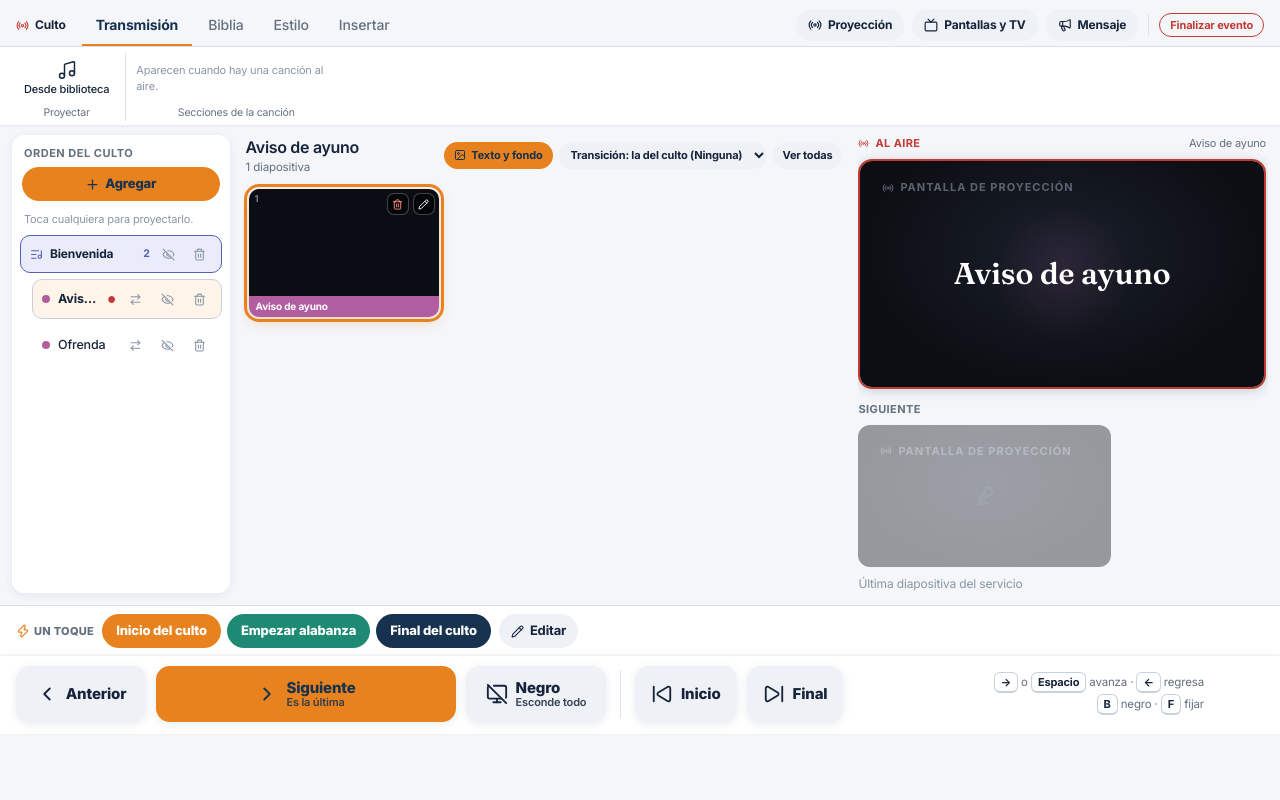
Consola: borrar del setlist y agregar versículo › + Agregar → Versículo abre el buscador de la Biblia
Click the button "Agregar" at point(121, 184), box [22,167,220,201]
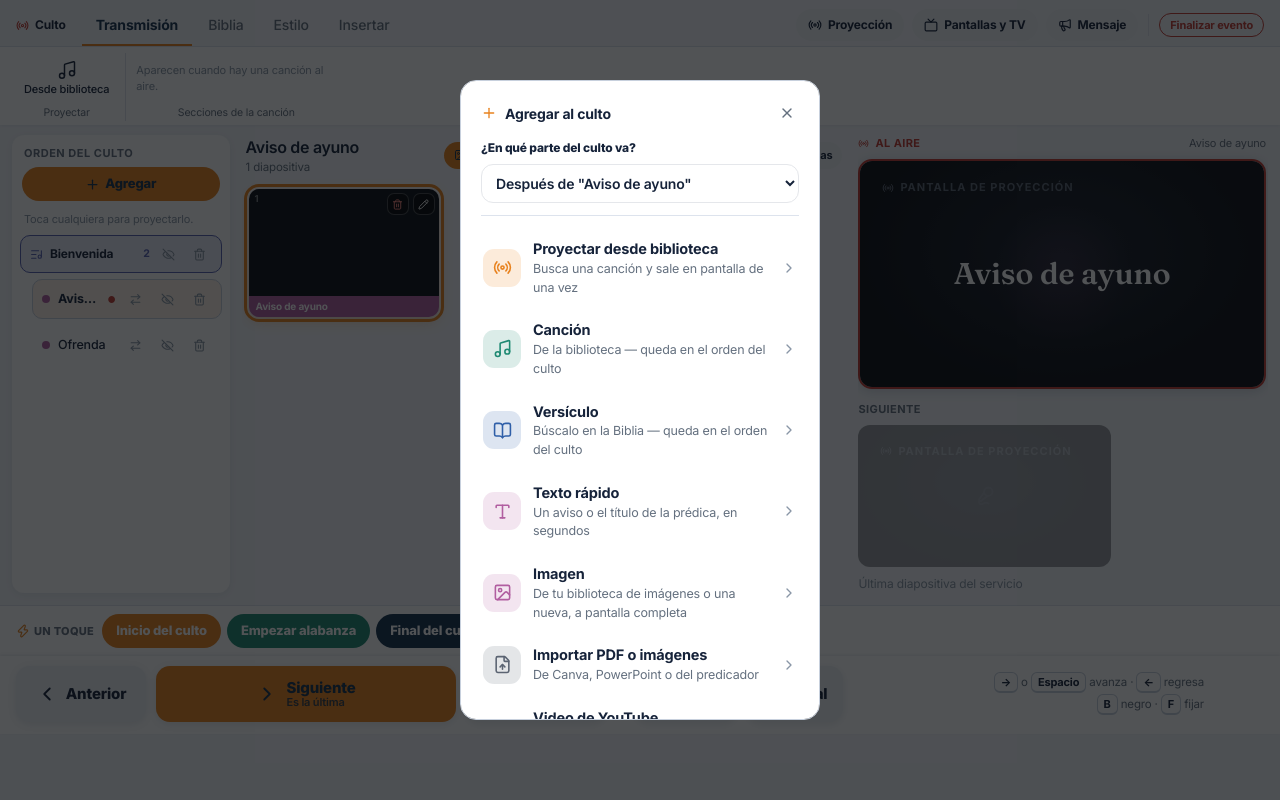
Click the text "Versículo" at point(566, 411), box [533,402,598,420]
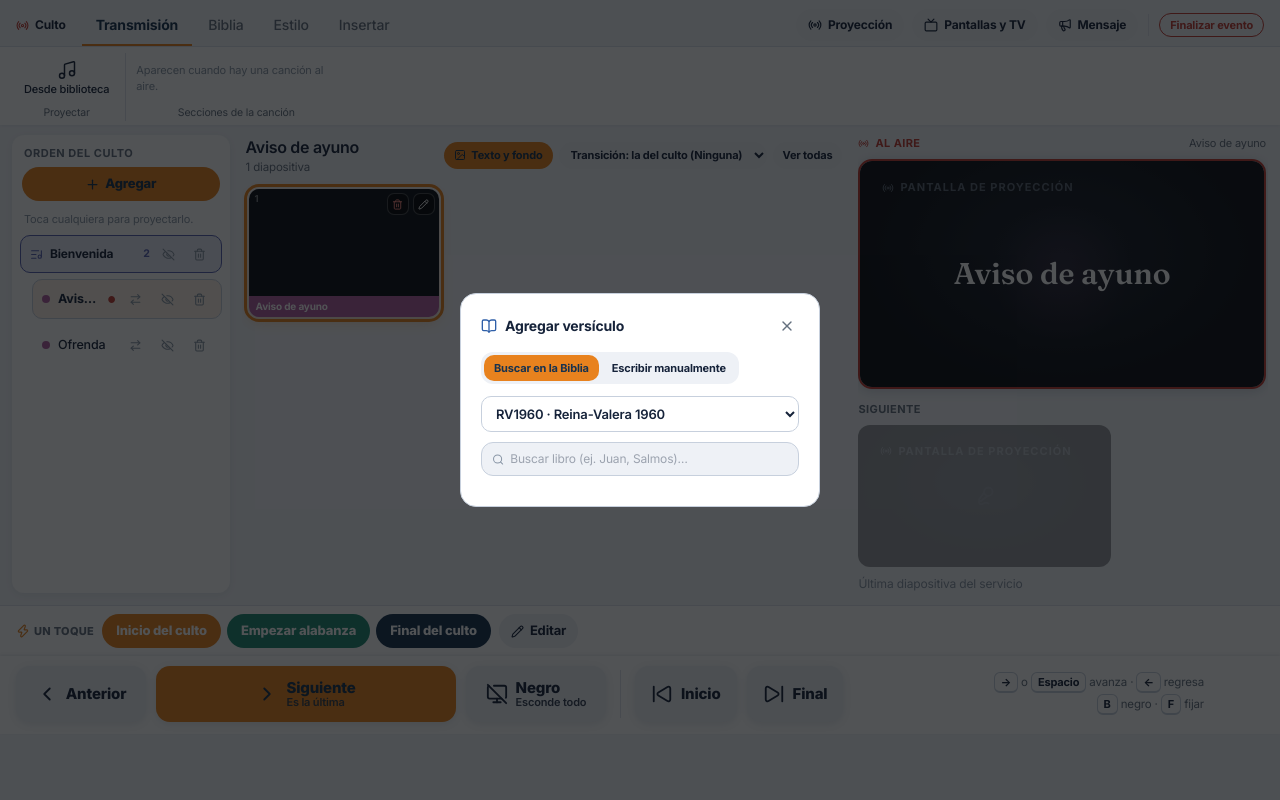
Expected: the text "Agregar versículo" is shown, [505,315,624,336]
